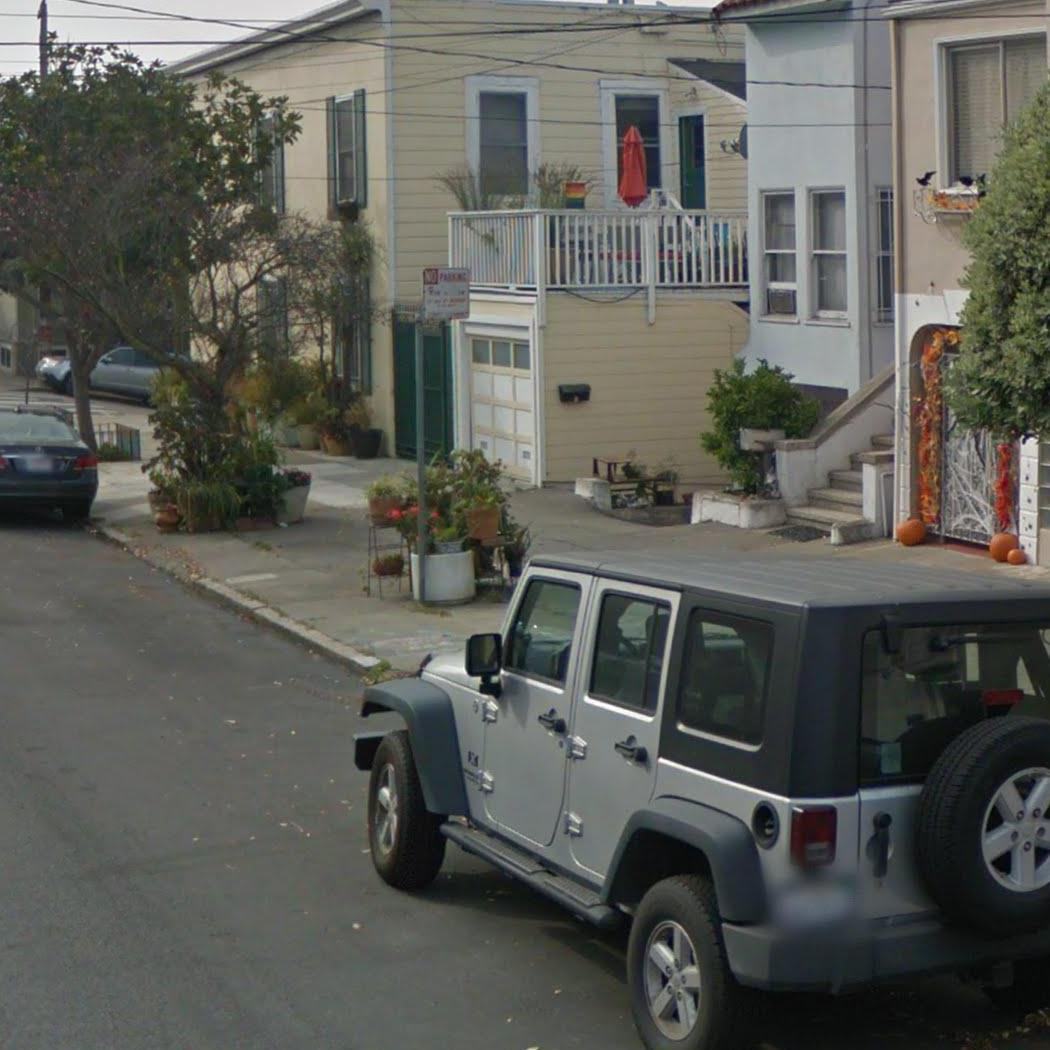No Parking: (418, 261, 474, 318)
